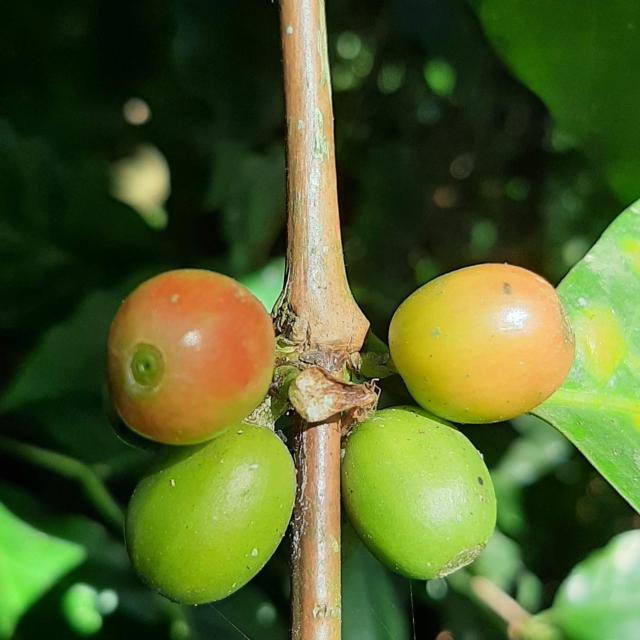green: (125, 424, 296, 606), (342, 407, 497, 581)
yellow: (389, 263, 575, 424), (105, 269, 274, 445)
